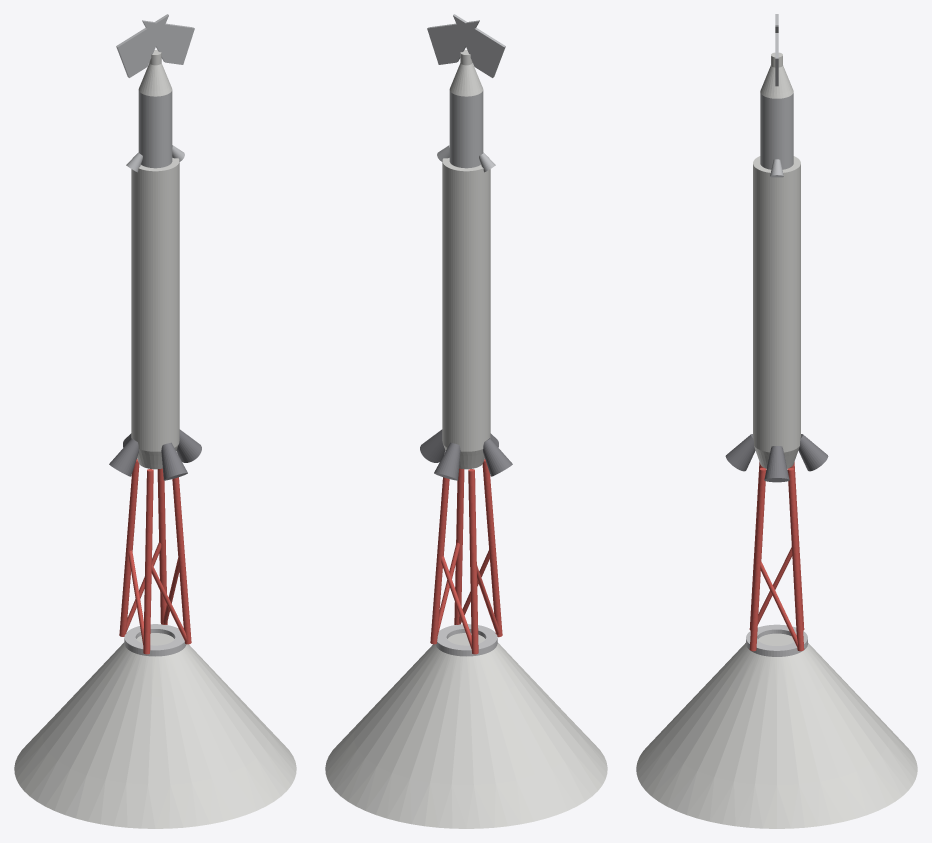
The model's file is prop24_launch_escape_tower_m.glb.
The picture shows the model from 3 angles, left to right: view 1: azimuth 30°, elevation 25°; view 2: azimuth 150°, elevation 25°; view 3: azimuth 270°, elevation 25°; orthographic projection.
Parts seen in each view (by area): view 1: boost_cover, abort_motor, tower_truss, jettison_motor, abort_nozzles, canard_1, canard_2, docking_ring, nose; view 2: boost_cover, abort_motor, tower_truss, jettison_motor, abort_nozzles, canard_1, canard_2, docking_ring, nose; view 3: boost_cover, abort_motor, tower_truss, jettison_motor, abort_nozzles, docking_ring, nose.
Part boxes in pixels (x1,y1,x2,y2): boost_cover: (14, 633, 296, 828); abort_motor: (131, 157, 179, 469); tower_truss: (119, 459, 191, 654); jettison_motor: (126, 90, 184, 172); abort_nozzles: (109, 429, 201, 480); canard_1: (116, 14, 168, 77); canard_2: (142, 20, 194, 64); docking_ring: (124, 624, 186, 656); nose: (138, 50, 172, 96); boost_cover: (325, 633, 607, 828); abort_motor: (442, 157, 490, 469); tower_truss: (430, 459, 502, 654); jettison_motor: (437, 90, 495, 172); abort_nozzles: (420, 429, 512, 480); canard_1: (453, 14, 505, 77); canard_2: (427, 20, 479, 64); docking_ring: (435, 624, 497, 656); nose: (449, 50, 483, 96); boost_cover: (636, 633, 917, 828); abort_motor: (753, 156, 800, 468); tower_truss: (749, 462, 804, 651); jettison_motor: (760, 93, 793, 177); abort_nozzles: (725, 434, 828, 482); docking_ring: (746, 624, 807, 656); nose: (760, 52, 793, 98).
Size of the model in its own units: 2.5 by 7.34 by 2.5.
